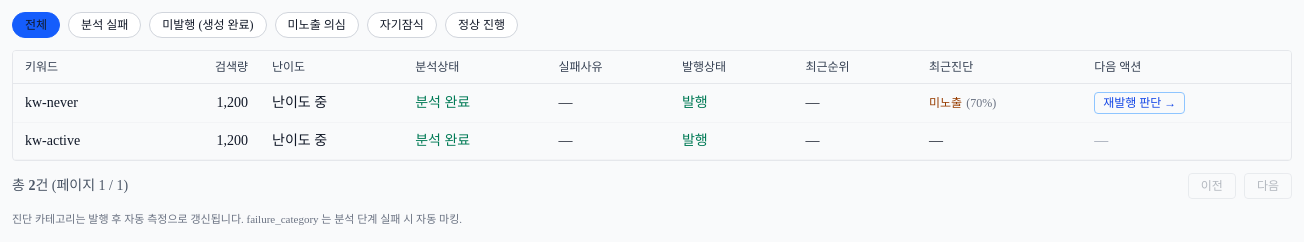
Test case: InsightsKeywordsView › 미노출 의심 칩 클릭 → diagnosis_category=never_indexed row 만 표시
Click the button "미노출 의심". click: point(317, 25)
box: [274,12,359,38]
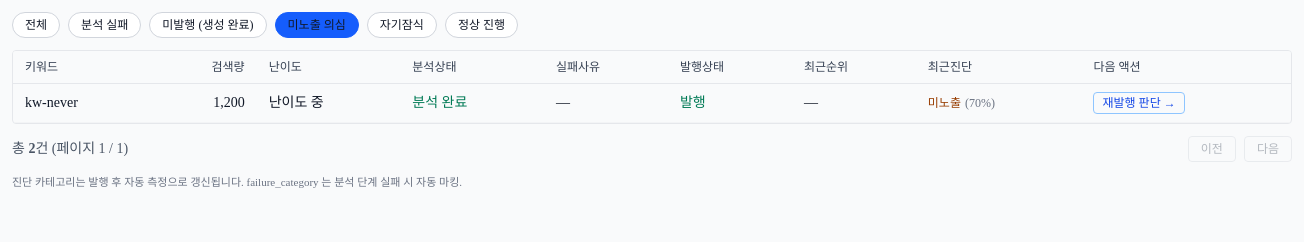
Expected: the text "kw-active" is gone
